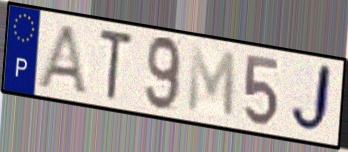5: (240, 52, 284, 128)
9: (142, 34, 184, 116)
A: (34, 24, 91, 98)
J: (288, 61, 335, 138)
M: (185, 43, 238, 122)
T: (97, 26, 136, 102)
